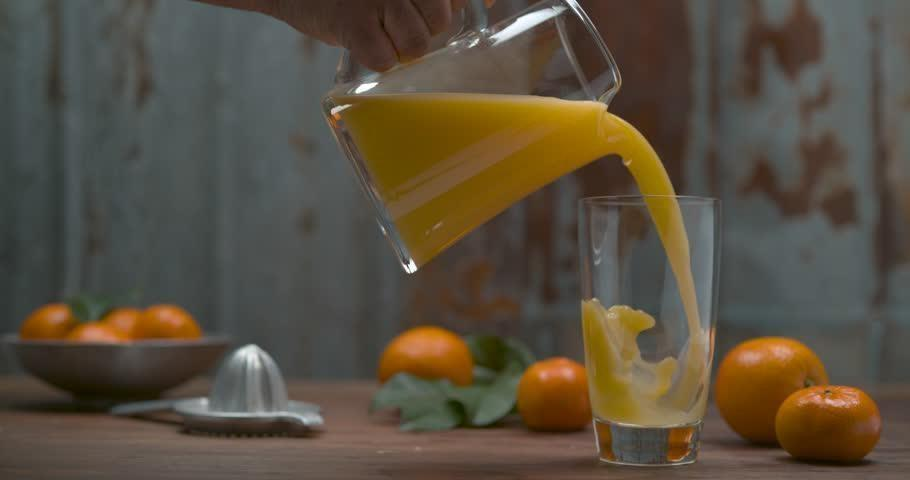glass-normal: (575, 190, 724, 469)
